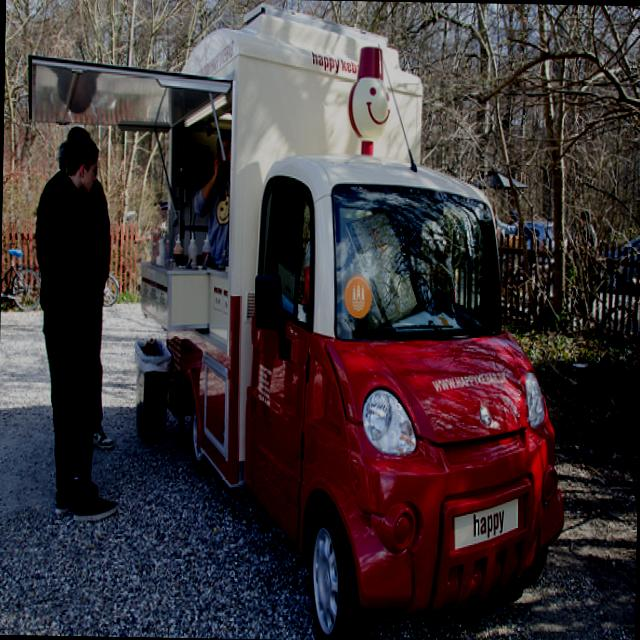Vehicle: (17, 0, 575, 640), (599, 226, 640, 299), (522, 220, 555, 251)
